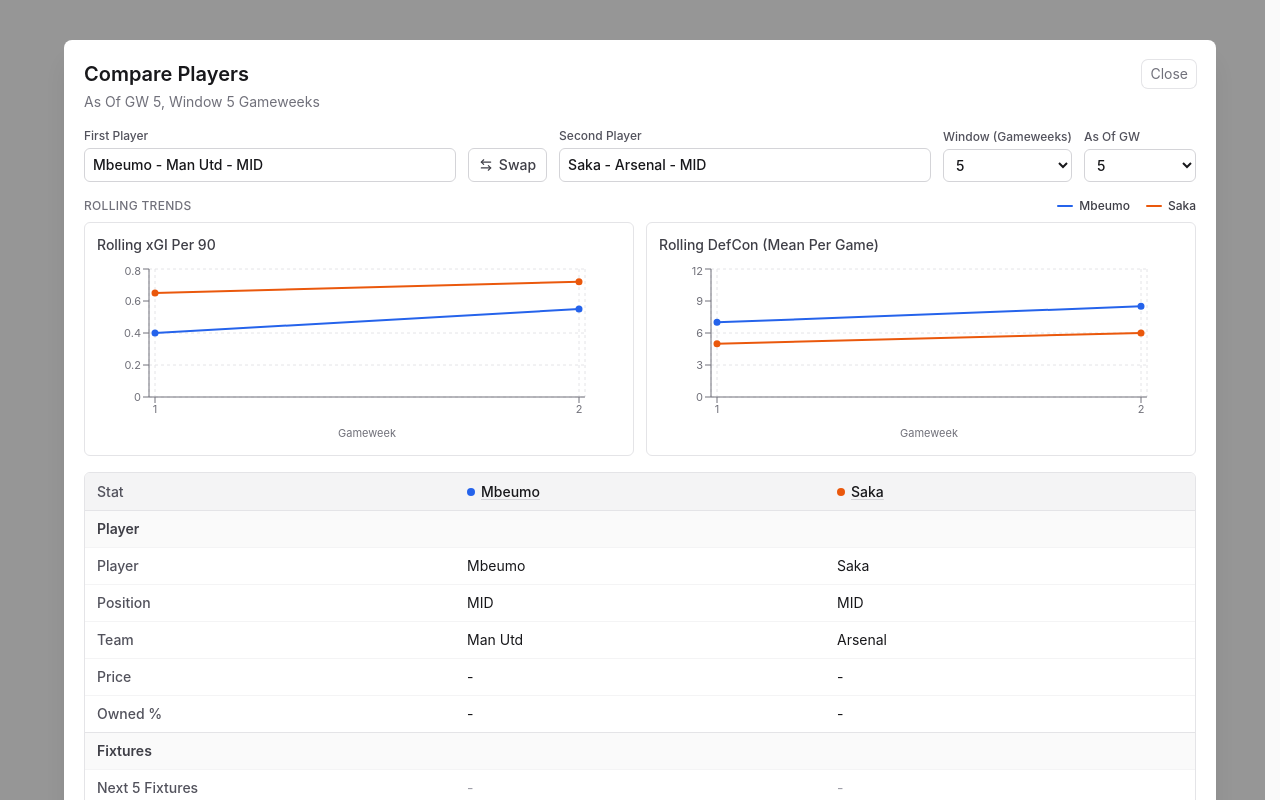
Test: swaps left and right players
The image size is (1280, 800).
Expected: the element named "Rolling Trend Comparison" is shown, x1=84 y1=198 x2=1196 y2=456
Expected: the dropdown labelled "First Player" holds "Mbeumo - Man Utd - MID", x1=84 y1=148 x2=456 y2=182
Click the button "Swap" at point(507, 165), box x1=468 y1=148 x2=547 y2=182
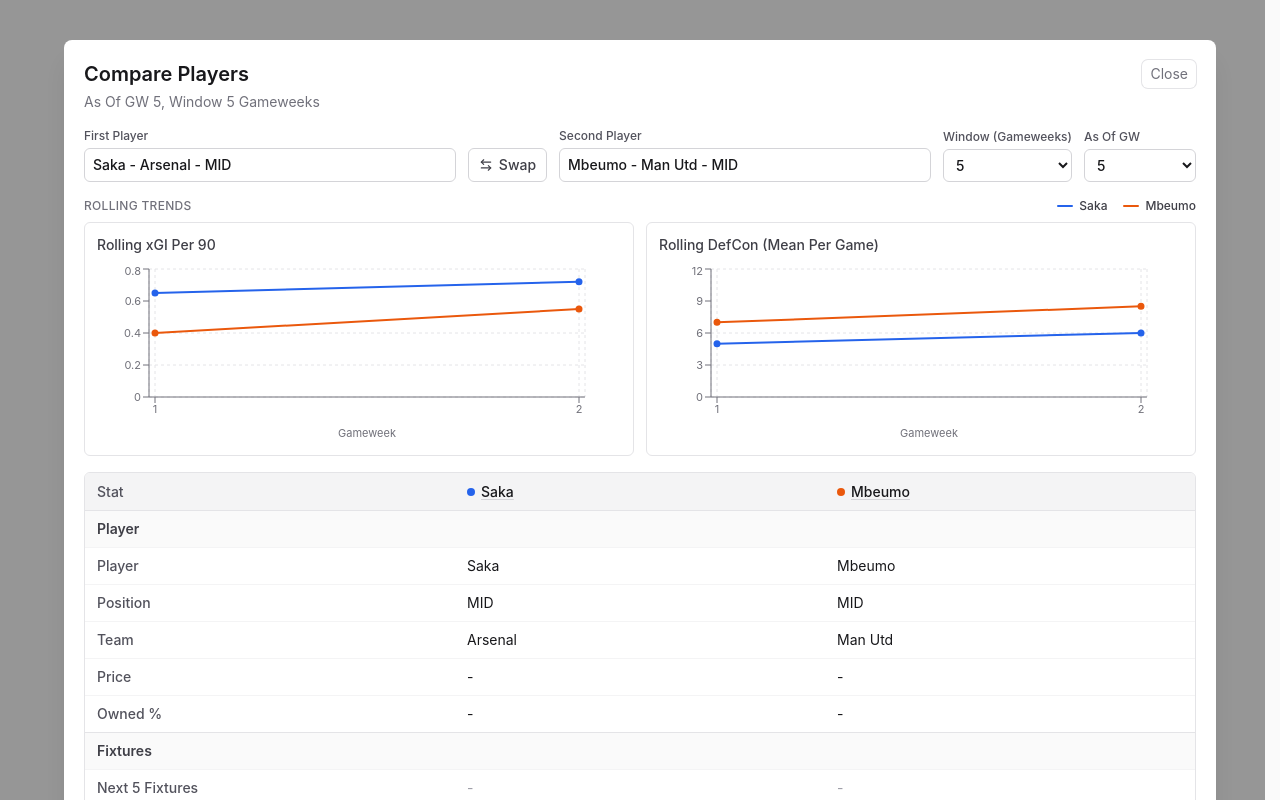
Now the dropdown labelled "First Player" holds "Saka - Arsenal - MID", box x1=84 y1=148 x2=456 y2=182
Now the dropdown labelled "Second Player" holds "Mbeumo - Man Utd - MID", box x1=559 y1=148 x2=931 y2=182
Now the column heading "Saka" is shown, box x1=455 y1=473 x2=825 y2=510
